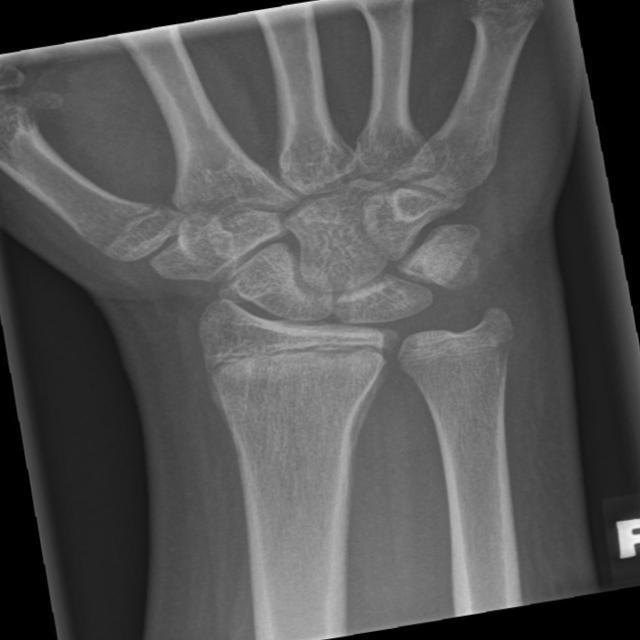fracture: (190, 314, 404, 404), (394, 324, 528, 386)
